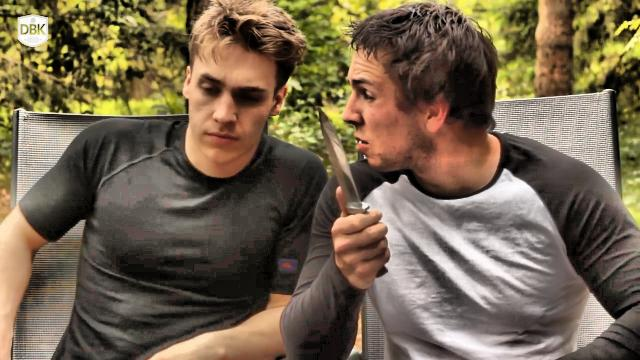knife: (312, 100, 396, 284)
